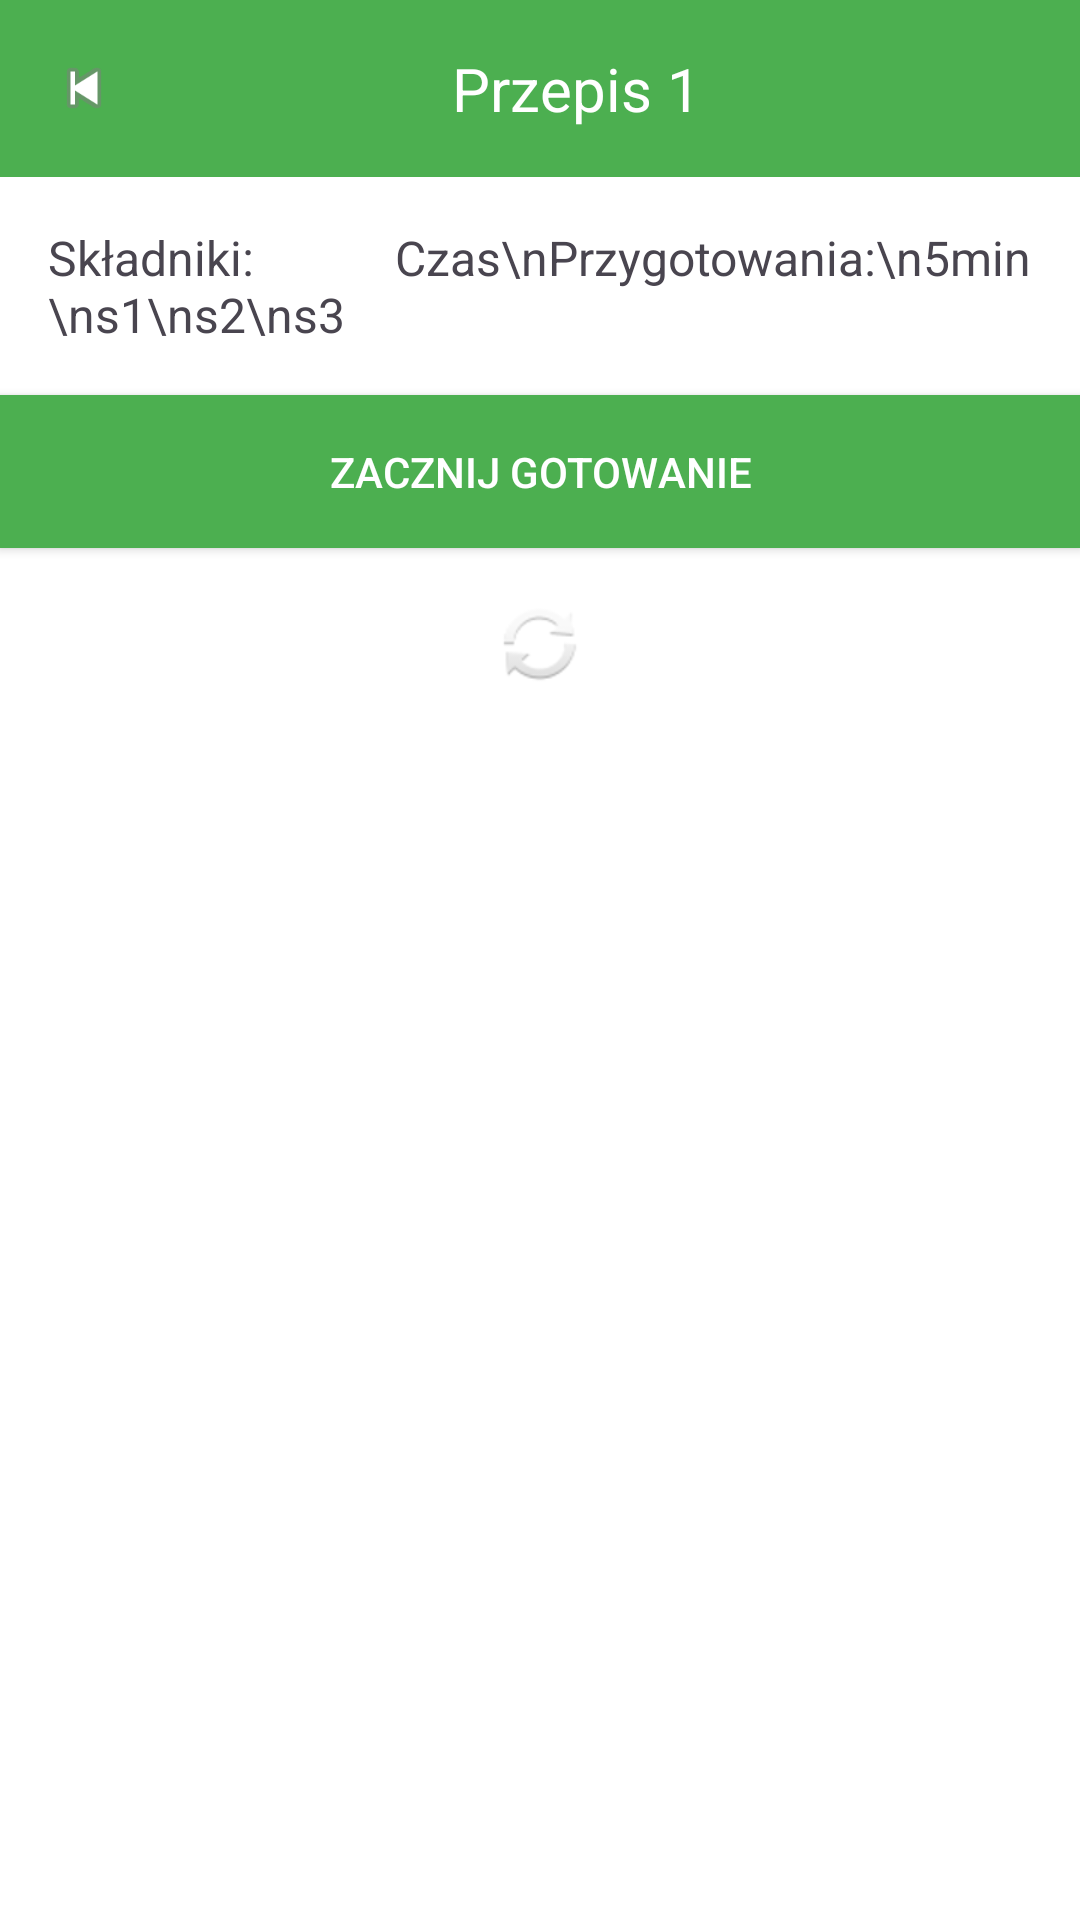

Icon bounding boxes for this 1080 x 1920 phone screenshot, format bbox=[x1, y1, x2, y2]:
Back: bbox=[67, 68, 101, 108]
